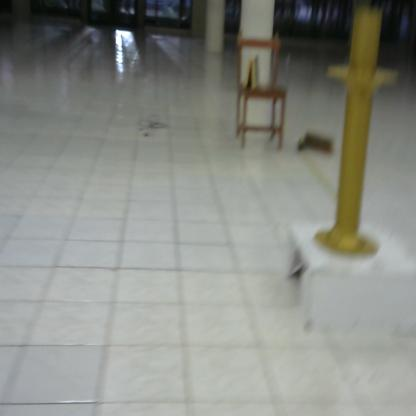pole: (309, 8, 408, 267)
